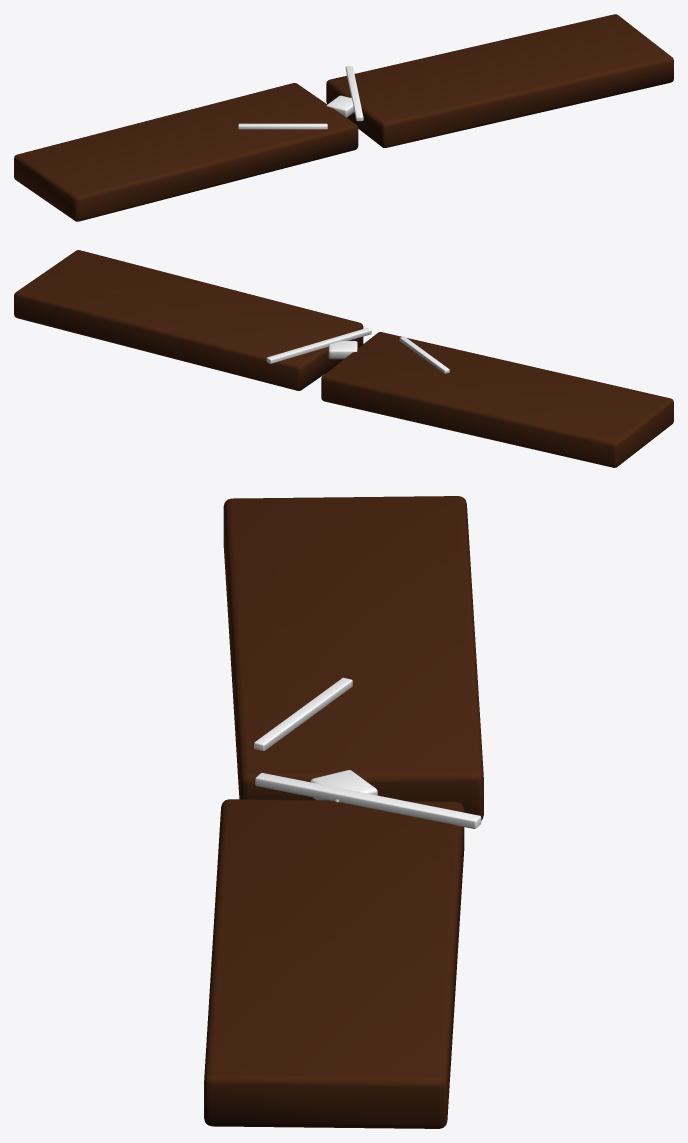
File: cracked-plank.obj
3 renders of one model, top to bottom at view 1: azimuth 30°, elevation 25°; view 2: azimuth 150°, elevation 25°; view 3: azimuth 270°, elevation 25°, orthographic. The views are drawn at different scales.
Visible parts, largest first — view 1: cracked-plank; view 2: cracked-plank; view 3: cracked-plank.
Boxes of the visible parts, bbox=[...] form: cracked-plank: bbox=[14, 14, 673, 221]; cracked-plank: bbox=[14, 250, 673, 467]; cracked-plank: bbox=[204, 496, 483, 1128].
Bounding box in the file's own units: 1.71 × 0.081 × 0.3448.
